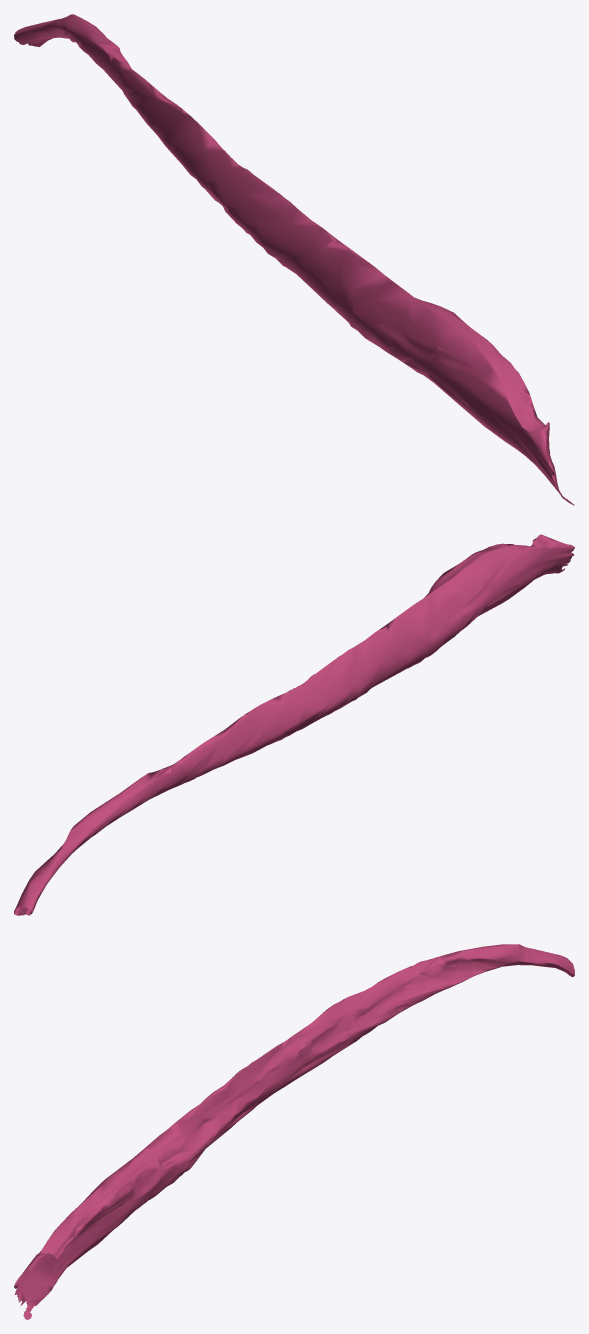
The picture shows the model from 3 angles, top to bottom: view 1: azimuth 30°, elevation 25°; view 2: azimuth 150°, elevation 25°; view 3: azimuth 330°, elevation 25°; orthographic projection. The views are drawn at different scales.
Parts seen in each view (by area): view 1: 右侧趾长伸肌; view 2: 右侧趾长伸肌; view 3: 右侧趾长伸肌.
Boxes of the visible parts, bbox=[...] form: 右侧趾长伸肌: bbox=[14, 14, 574, 505]; 右侧趾长伸肌: bbox=[14, 534, 574, 915]; 右侧趾长伸肌: bbox=[14, 944, 574, 1319].
Bounding box in the file's own units: 0.0477 × 0.0487 × 0.4832.
